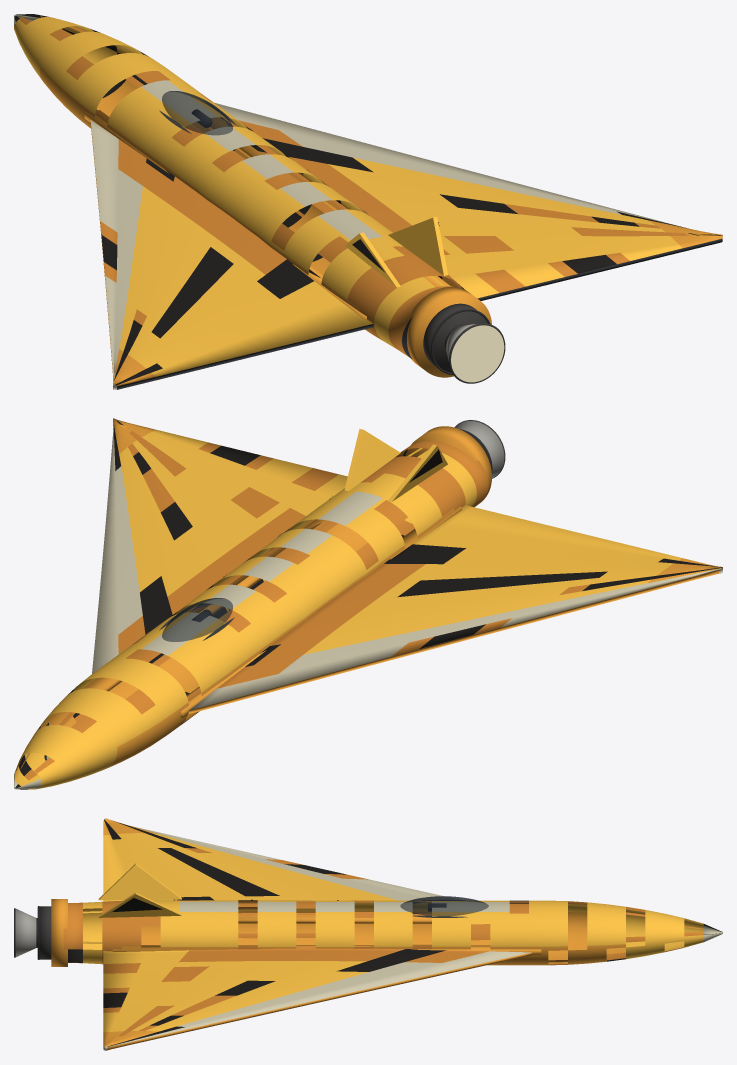
The model's file is Ship_TigerWing_2.glb.
3 views of the same model, one above another, from view 1: azimuth 30°, elevation 25°; view 2: azimuth 150°, elevation 25°; view 3: azimuth 270°, elevation 25° (orthographic). The views are drawn at different scales.
Parts seen in each view (by area): view 1: Fuselage_OrganicEllipsoidTaperedBody_BakedPaint, Wing_Left_LongDeltaAerofoil_BakedPaint, Wing_Right_LongDeltaAerofoil_BakedPaint, AftCollar_IntegratedSingleEngineBand, EngineEmitter, CanopyGlass_LowInsetDome, EngineBlock_AftDarkSingleEngineHousing, TailFin_Right_CantedStabilizer, WingRoot_Left_EmbeddedShoulder, TailFin_Left_CantedStabilizer; view 2: Fuselage_OrganicEllipsoidTaperedBody_BakedPaint, Wing_Left_LongDeltaAerofoil_BakedPaint, Wing_Right_LongDeltaAerofoil_BakedPaint, CanopyGlass_LowInsetDome, TailFin_Right_CantedStabilizer, AftCollar_IntegratedSingleEngineBand, EngineBell_Center_BroadBurnishedNozzle, TailFin_Left_CantedStabilizer, WingRoot_Left_EmbeddedShoulder, WingRoot_Right_EmbeddedShoulder; view 3: Fuselage_OrganicEllipsoidTaperedBody_BakedPaint, Wing_Right_LongDeltaAerofoil_BakedPaint, Wing_Left_LongDeltaAerofoil_BakedPaint, TailFin_Left_CantedStabilizer, CanopyGlass_LowInsetDome, AftCollar_IntegratedSingleEngineBand, EngineBell_Center_BroadBurnishedNozzle, TailFin_Right_CantedStabilizer, WingRoot_Right_EmbeddedShoulder, EngineBlock_AftDarkSingleEngineHousing, WingRoot_Left_EmbeddedShoulder.
Boxes of the visible parts, box(x1,y1,x2,y2) form: Fuselage_OrganicEllipsoidTaperedBody_BakedPaint: box(14, 14, 464, 358); Wing_Left_LongDeltaAerofoil_BakedPaint: box(90, 120, 373, 389); Wing_Right_LongDeltaAerofoil_BakedPaint: box(215, 103, 722, 300); AftCollar_IntegratedSingleEngineBand: box(407, 287, 491, 377); EngineEmitter: box(451, 325, 504, 382); CanopyGlass_LowInsetDome: box(162, 91, 232, 135); EngineBlock_AftDarkSingleEngineHousing: box(423, 303, 487, 372); TailFin_Right_CantedStabilizer: box(388, 216, 447, 275); WingRoot_Left_EmbeddedShoulder: box(84, 110, 366, 319); TailFin_Left_CantedStabilizer: box(344, 232, 400, 287); Fuselage_OrganicEllipsoidTaperedBody_BakedPaint: box(14, 441, 488, 789); Wing_Left_LongDeltaAerofoil_BakedPaint: box(188, 505, 722, 714); Wing_Right_LongDeltaAerofoil_BakedPaint: box(92, 418, 347, 673); CanopyGlass_LowInsetDome: box(162, 598, 232, 641); TailFin_Right_CantedStabilizer: box(344, 428, 400, 491); AftCollar_IntegratedSingleEngineBand: box(405, 426, 491, 507); EngineBell_Center_BroadBurnishedNozzle: box(455, 421, 504, 478); TailFin_Left_CantedStabilizer: box(388, 444, 447, 501); WingRoot_Left_EmbeddedShoulder: box(180, 506, 462, 717); WingRoot_Right_EmbeddedShoulder: box(87, 519, 327, 691); Fuselage_OrganicEllipsoidTaperedBody_BakedPaint: box(63, 900, 722, 965); Wing_Right_LongDeltaAerofoil_BakedPaint: box(103, 946, 533, 1050); Wing_Left_LongDeltaAerofoil_BakedPaint: box(103, 818, 457, 916); TailFin_Left_CantedStabilizer: box(98, 863, 181, 900); CanopyGlass_LowInsetDome: box(400, 896, 488, 916); AftCollar_IntegratedSingleEngineBand: box(51, 899, 67, 966); EngineBell_Center_BroadBurnishedNozzle: box(15, 909, 36, 956); TailFin_Right_CantedStabilizer: box(98, 892, 181, 917); WingRoot_Right_EmbeddedShoulder: box(112, 945, 541, 954); EngineBlock_AftDarkSingleEngineHousing: box(39, 906, 51, 959); WingRoot_Left_EmbeddedShoulder: box(238, 916, 431, 923).
Bounding box in the file's own units: 6.39 × 1.12 × 8.39.
